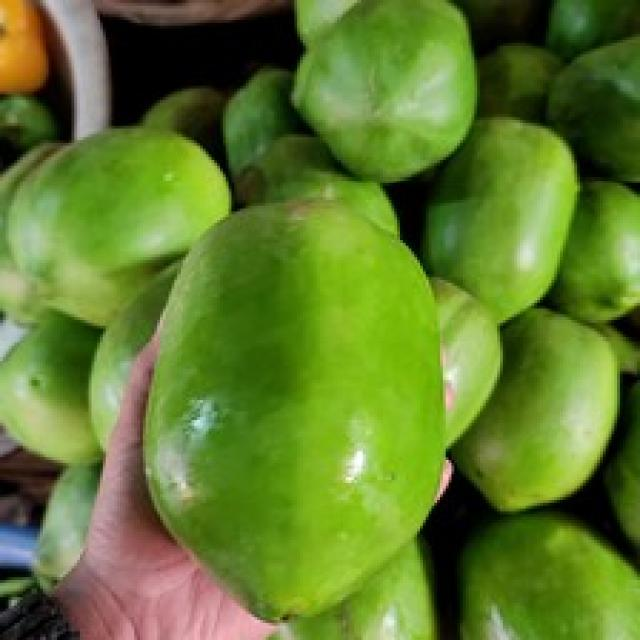Pepaya unrippen: (151, 193, 441, 611), (21, 124, 217, 311), (478, 310, 608, 511), (434, 124, 565, 304)
